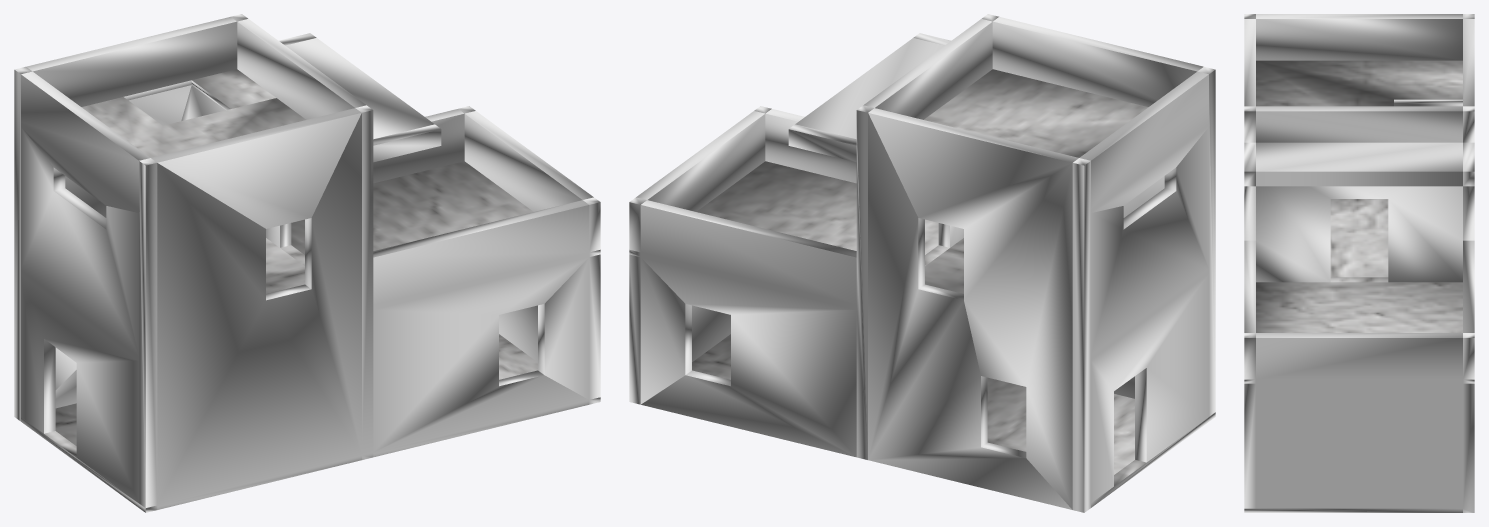
Rendered from AridBuilding_1-2.fbx.
The picture shows the model from 3 angles, left to right: view 1: azimuth 30°, elevation 25°; view 2: azimuth 150°, elevation 25°; view 3: azimuth 270°, elevation 25°; orthographic projection. The views are drawn at different scales.
Visible parts, largest first — view 1: Plane.001; view 2: Plane.001; view 3: Plane.001.
Boxes of the visible parts, x1=… form: Plane.001: x1=14, y1=14, x2=600, y2=512; Plane.001: x1=629, y1=14, x2=1215, y2=512; Plane.001: x1=1244, y1=14, x2=1474, y2=512.
Bounding box in the file's own units: 500 × 1001 × 730.
